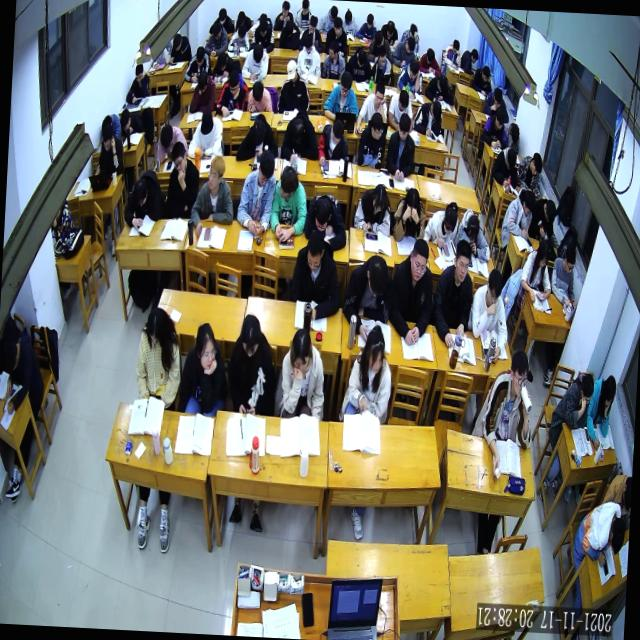bow: (302, 189, 348, 251), (122, 163, 164, 225), (234, 110, 280, 162), (280, 110, 320, 167), (453, 209, 492, 262), (423, 200, 459, 249), (424, 72, 456, 106), (482, 85, 510, 122), (246, 79, 274, 113), (118, 105, 146, 138), (210, 50, 235, 85), (279, 18, 301, 50)
down: (365, 254, 389, 300), (290, 326, 314, 372), (240, 314, 261, 359), (306, 229, 326, 274), (146, 303, 166, 343), (278, 162, 300, 198), (485, 264, 504, 304), (608, 517, 626, 557), (0, 338, 19, 374), (313, 193, 331, 231), (370, 182, 388, 215), (258, 151, 274, 187), (580, 368, 596, 403), (404, 185, 421, 216), (251, 117, 267, 146), (132, 179, 148, 208), (602, 375, 616, 408), (442, 204, 458, 232), (339, 70, 354, 99), (398, 112, 412, 142), (520, 186, 535, 214), (158, 124, 174, 150), (200, 105, 214, 134), (466, 214, 480, 242), (544, 194, 558, 222), (289, 118, 304, 144), (537, 238, 550, 268), (227, 72, 241, 98), (504, 145, 518, 171), (530, 152, 544, 178), (564, 244, 576, 274), (285, 58, 298, 84), (102, 122, 114, 150), (330, 120, 344, 144), (120, 109, 132, 133), (196, 70, 208, 94), (398, 89, 410, 113), (429, 101, 442, 123), (509, 122, 522, 144), (408, 59, 420, 82), (252, 43, 264, 65), (494, 105, 505, 129), (216, 51, 228, 72), (377, 44, 388, 66), (194, 43, 206, 63), (252, 78, 264, 98), (374, 28, 386, 48), (436, 72, 448, 92), (258, 15, 270, 34), (236, 21, 247, 41), (304, 32, 314, 54), (356, 44, 367, 64), (134, 64, 144, 85), (284, 15, 294, 36), (404, 37, 416, 54), (212, 20, 222, 40), (308, 16, 318, 34), (490, 139, 502, 154), (494, 90, 504, 108), (328, 3, 338, 21), (386, 20, 395, 39), (481, 65, 490, 84), (281, 1, 291, 18), (237, 7, 247, 23), (343, 10, 353, 26), (218, 5, 227, 22), (426, 48, 435, 65), (301, 1, 311, 16), (471, 50, 480, 66), (366, 13, 374, 30), (452, 40, 460, 56)
lookup: (508, 349, 530, 399), (364, 329, 386, 372), (409, 234, 430, 279), (452, 236, 472, 282), (207, 155, 226, 191), (172, 140, 190, 172), (374, 82, 386, 108), (333, 18, 343, 36)
sit: (470, 348, 538, 476), (288, 228, 346, 324), (388, 233, 437, 344), (132, 304, 184, 406), (227, 312, 277, 418), (342, 325, 394, 423), (177, 318, 230, 413), (431, 238, 476, 348), (279, 323, 328, 418), (342, 253, 394, 339), (467, 268, 511, 365), (0, 327, 46, 415), (189, 154, 237, 238), (570, 496, 626, 566), (235, 147, 278, 238), (268, 161, 310, 242), (163, 140, 200, 220), (586, 370, 618, 450), (384, 108, 418, 178), (520, 238, 554, 304), (559, 369, 595, 431), (353, 180, 394, 232), (276, 60, 312, 117), (392, 186, 428, 242), (322, 66, 360, 119), (187, 107, 225, 160), (550, 245, 580, 311), (356, 110, 388, 168), (356, 76, 390, 130), (504, 186, 536, 243), (215, 68, 249, 120), (317, 115, 350, 165), (94, 124, 124, 178), (188, 70, 218, 117), (490, 142, 520, 188), (387, 88, 415, 134), (528, 195, 556, 241), (481, 105, 509, 151), (296, 28, 324, 73), (369, 40, 396, 86), (240, 41, 270, 81), (517, 151, 543, 197), (413, 96, 444, 134), (396, 59, 424, 100), (126, 59, 151, 104), (184, 42, 212, 79), (324, 15, 348, 58), (346, 42, 372, 80), (298, 14, 324, 52), (322, 40, 346, 80), (366, 28, 392, 64), (204, 19, 229, 56), (251, 14, 276, 51), (393, 29, 416, 66), (168, 34, 193, 66), (469, 64, 493, 97), (208, 7, 235, 36), (418, 44, 444, 74), (226, 24, 250, 54), (273, 0, 295, 32), (318, 2, 338, 36), (355, 6, 377, 36), (502, 122, 522, 154), (444, 38, 462, 72), (340, 7, 360, 36), (294, 0, 312, 31), (460, 46, 480, 72), (381, 16, 398, 46), (235, 10, 252, 34), (172, 34, 182, 52)
